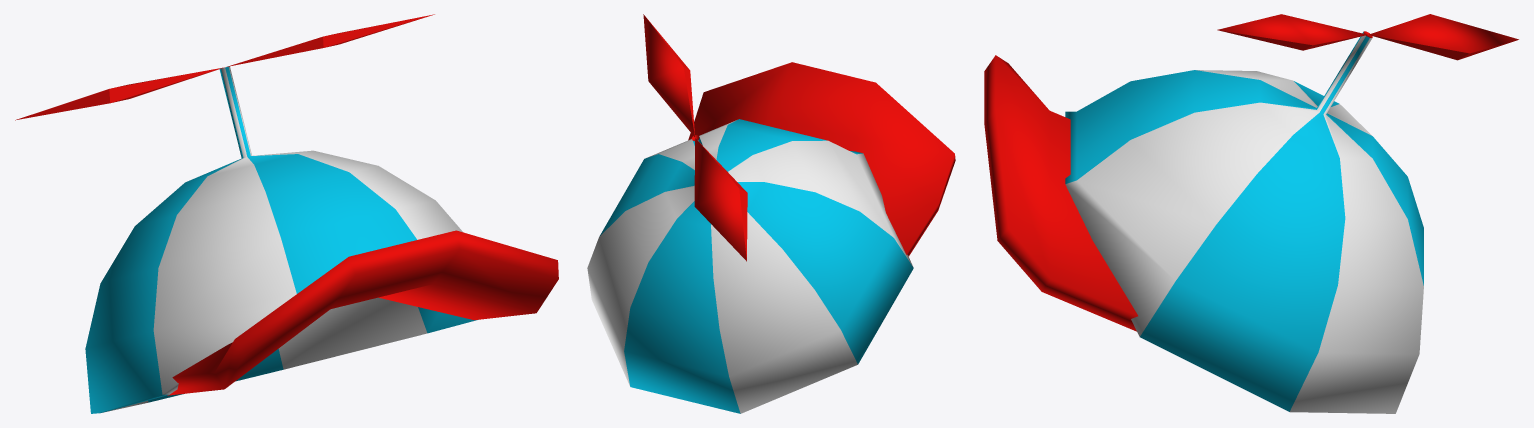
Rendered from cap.fbx.
3 views of the same model, side by side, from view 1: azimuth 30°, elevation 25°; view 2: azimuth 150°, elevation 25°; view 3: azimuth 270°, elevation 25° (orthographic). The views are drawn at different scales.
Visible parts, largest first — view 1: cap; view 2: cap; view 3: cap.
Part boxes in pixels (x1,y1,x2,y2): cap: (15,14,558,413); cap: (587,14,955,413); cap: (984,14,1518,413).
Size of the model in its own units: 205 by 229 by 265.
